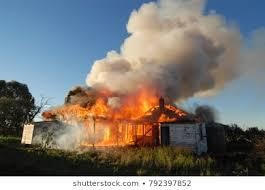fire: (42, 86, 181, 145)
